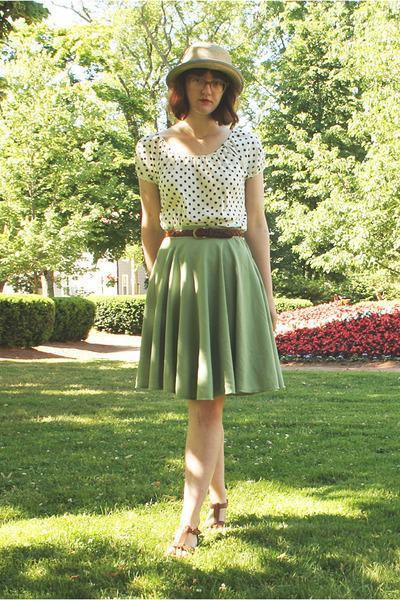hat: (183, 23, 251, 69)
shirt: (132, 137, 276, 248)
shoe: (180, 468, 239, 551)
skirt: (134, 229, 306, 401)
